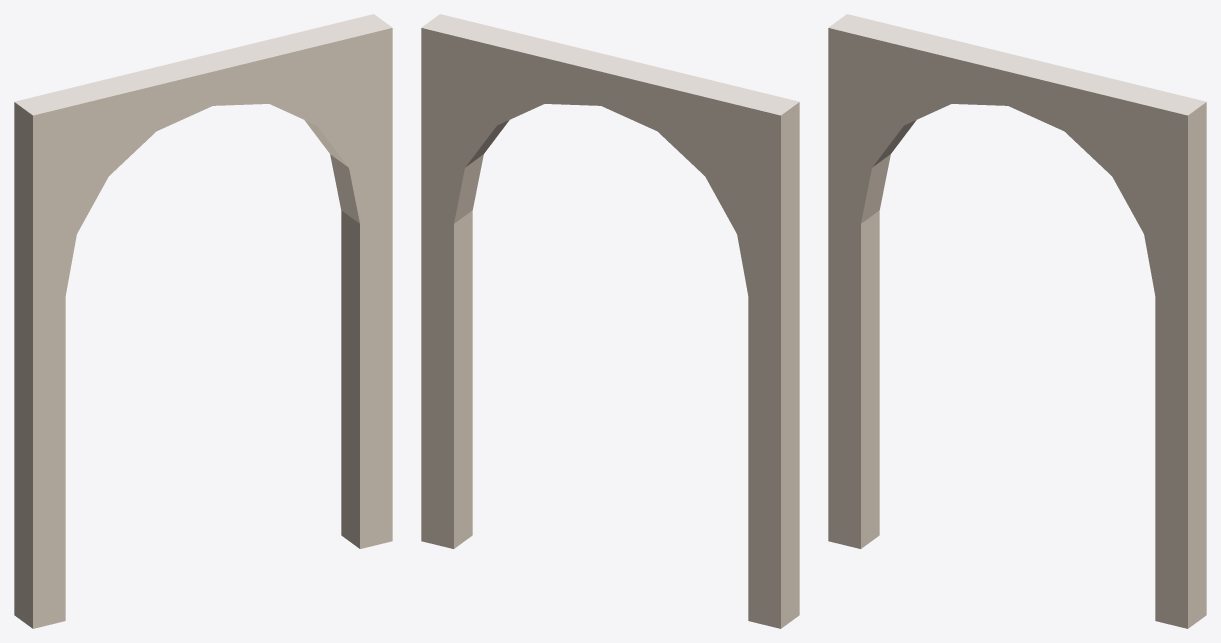
3 views of the same model, side by side, from view 1: azimuth 30°, elevation 25°; view 2: azimuth 150°, elevation 25°; view 3: azimuth 330°, elevation 25° (orthographic).
Parts seen in each view (by area): view 1: object1.039; view 2: object1.039; view 3: object1.039.
Part boxes in pixels (x1,y1,x2,y2): object1.039: (14,14,392,628); object1.039: (421,14,799,628); object1.039: (828,14,1206,628).
Bounding box in the file's own units: 2.2 × 3 × 0.2.
